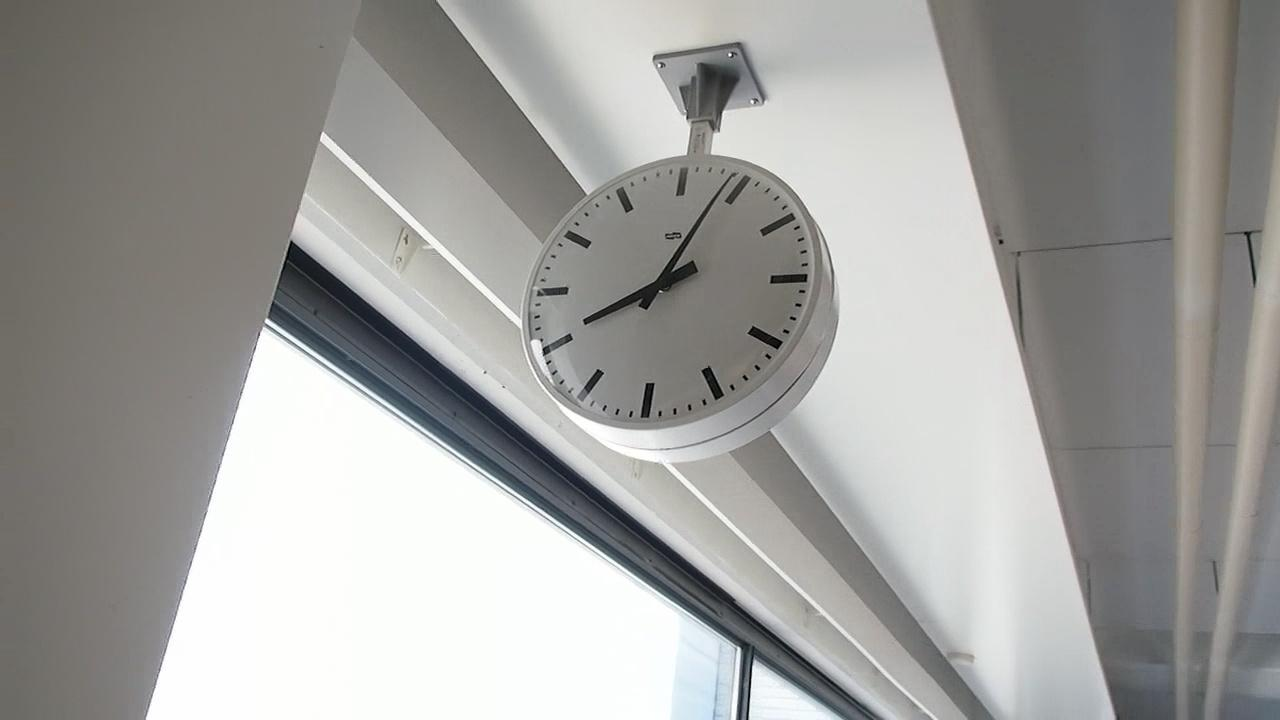clock: (510, 136, 844, 458)
